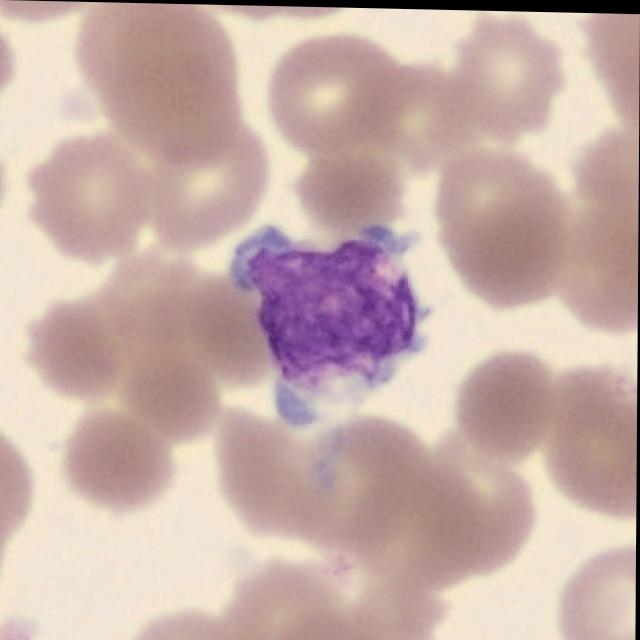Linfocito: (232, 220, 423, 424)
